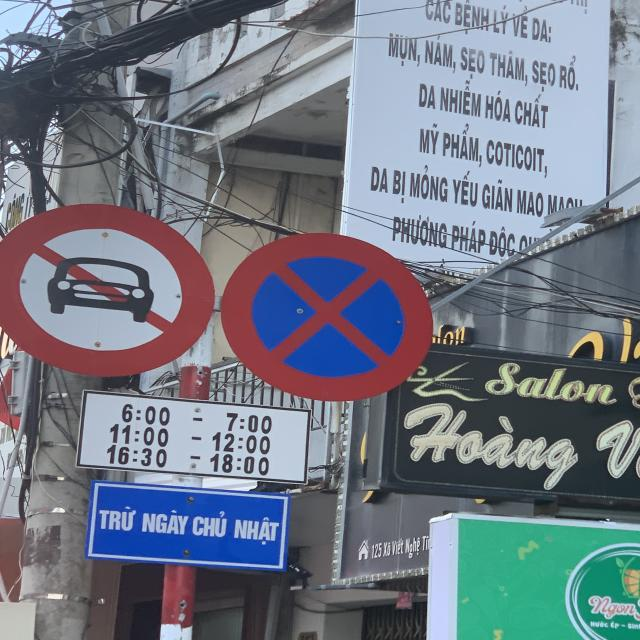Cam_Dung_Va_Dau_Xe: (222, 231, 434, 403)
Cam_O_To: (0, 202, 212, 380)
